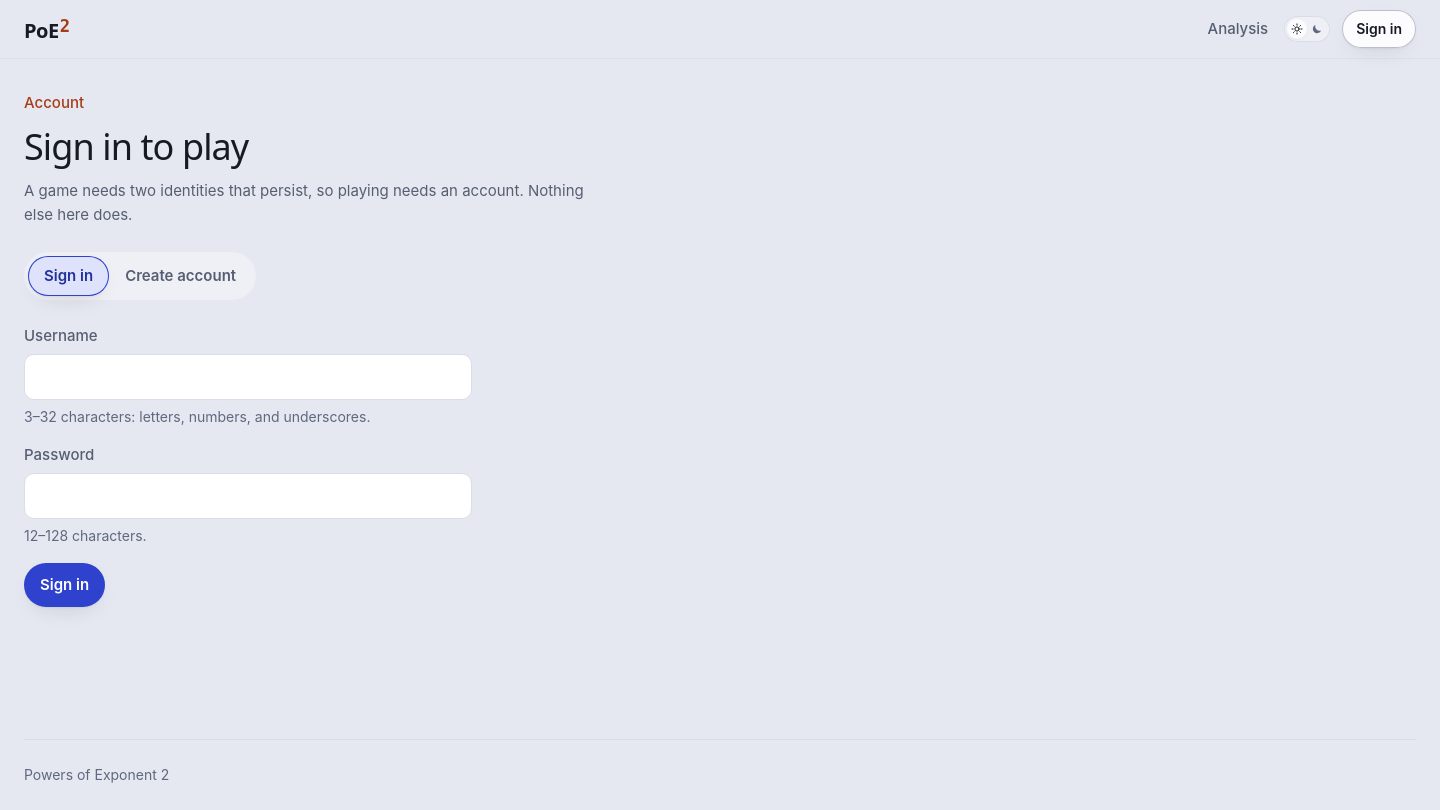
Test: AuthPage › announces a rejected sign-in without leaving the form
The image size is (1440, 810).
Check: the heading "Sign in to play" is shown, box top-left (24, 122), bottom-right (248, 171)
In the field labelled "Username": (248, 377) top-left (24, 354), bottom-right (472, 400), type "Player_One"
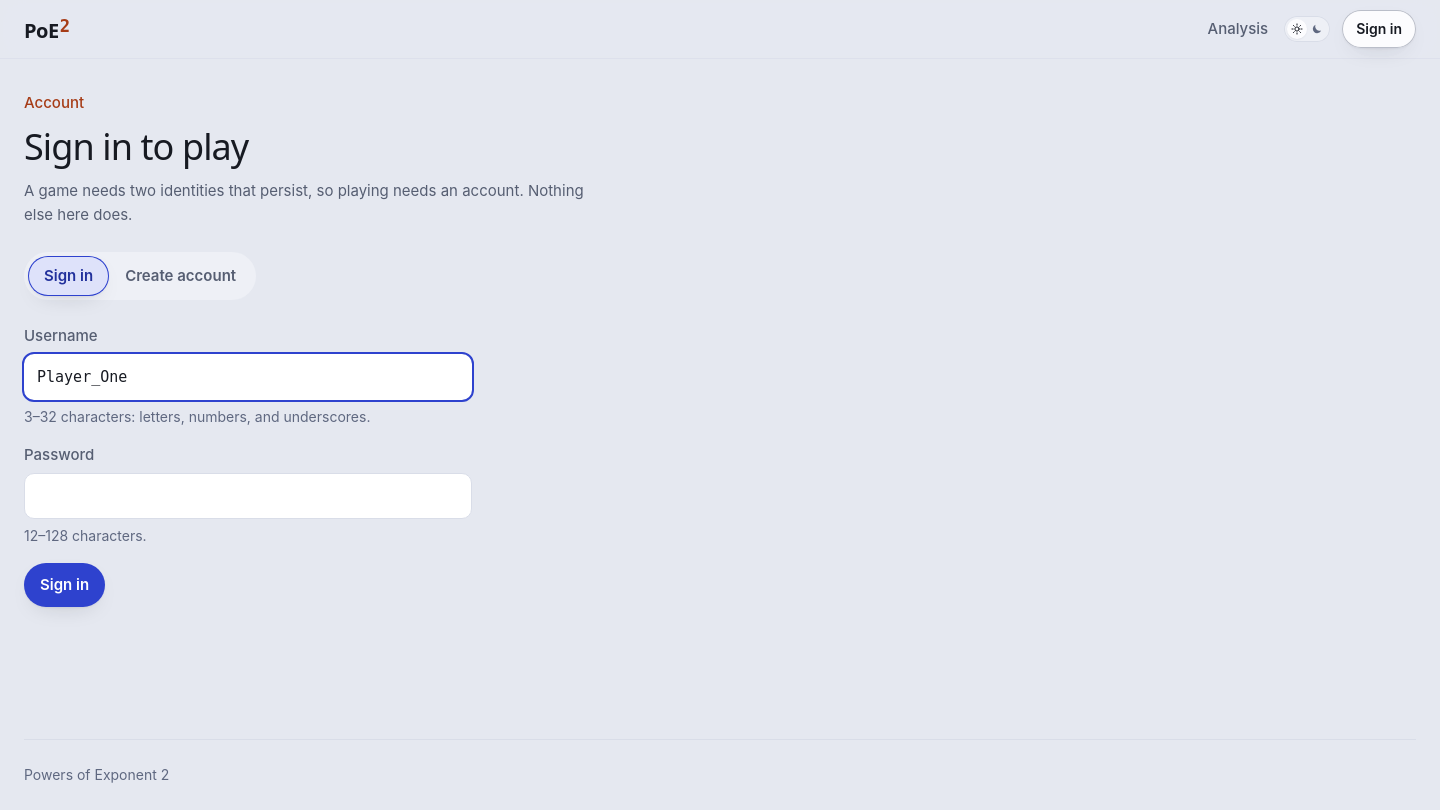
In the password field labelled "Password": (248, 496) top-left (24, 473), bottom-right (472, 519), type "correct horse battery staple"
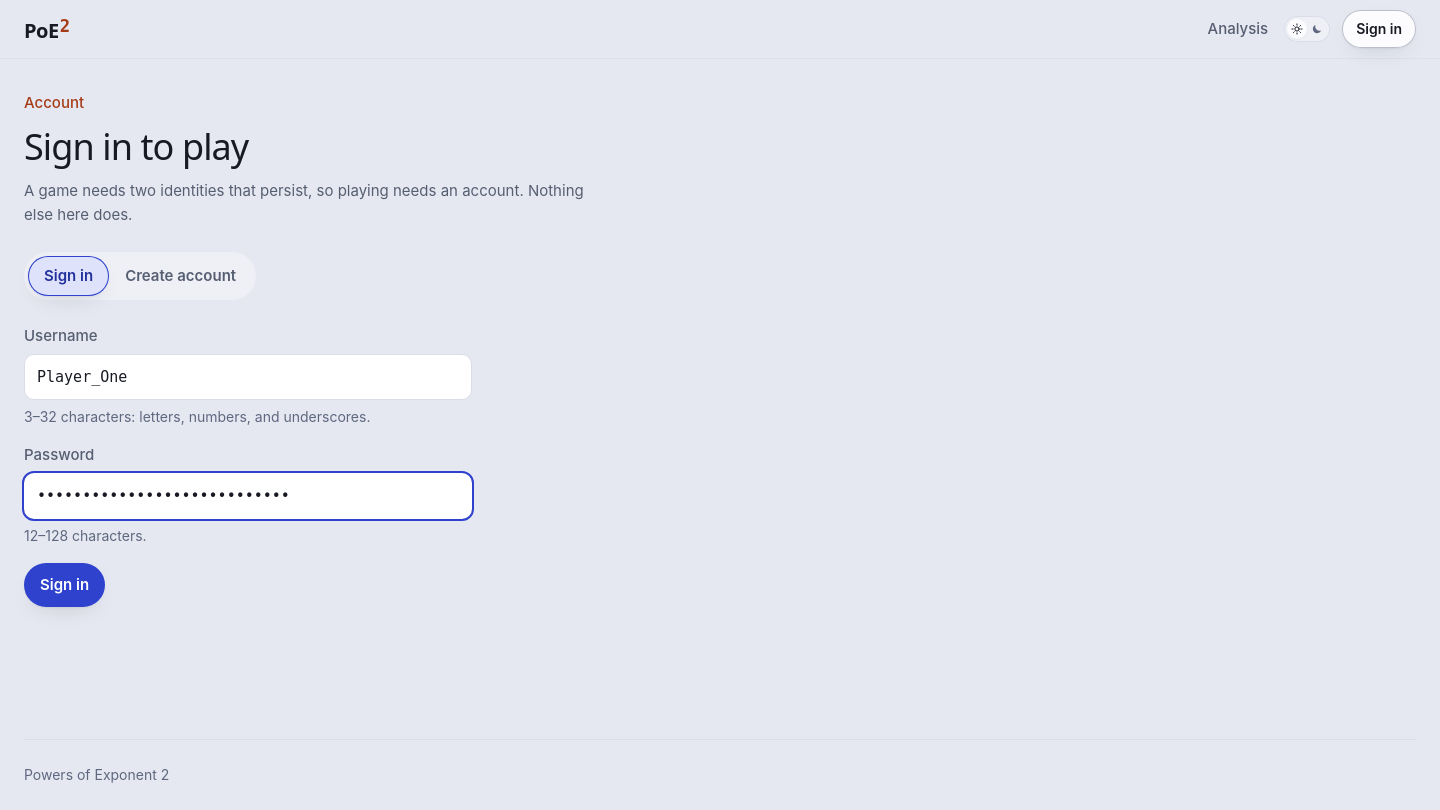
Click the button "Sign in" below "12–128 characters.": (65, 585) top-left (24, 563), bottom-right (105, 607)
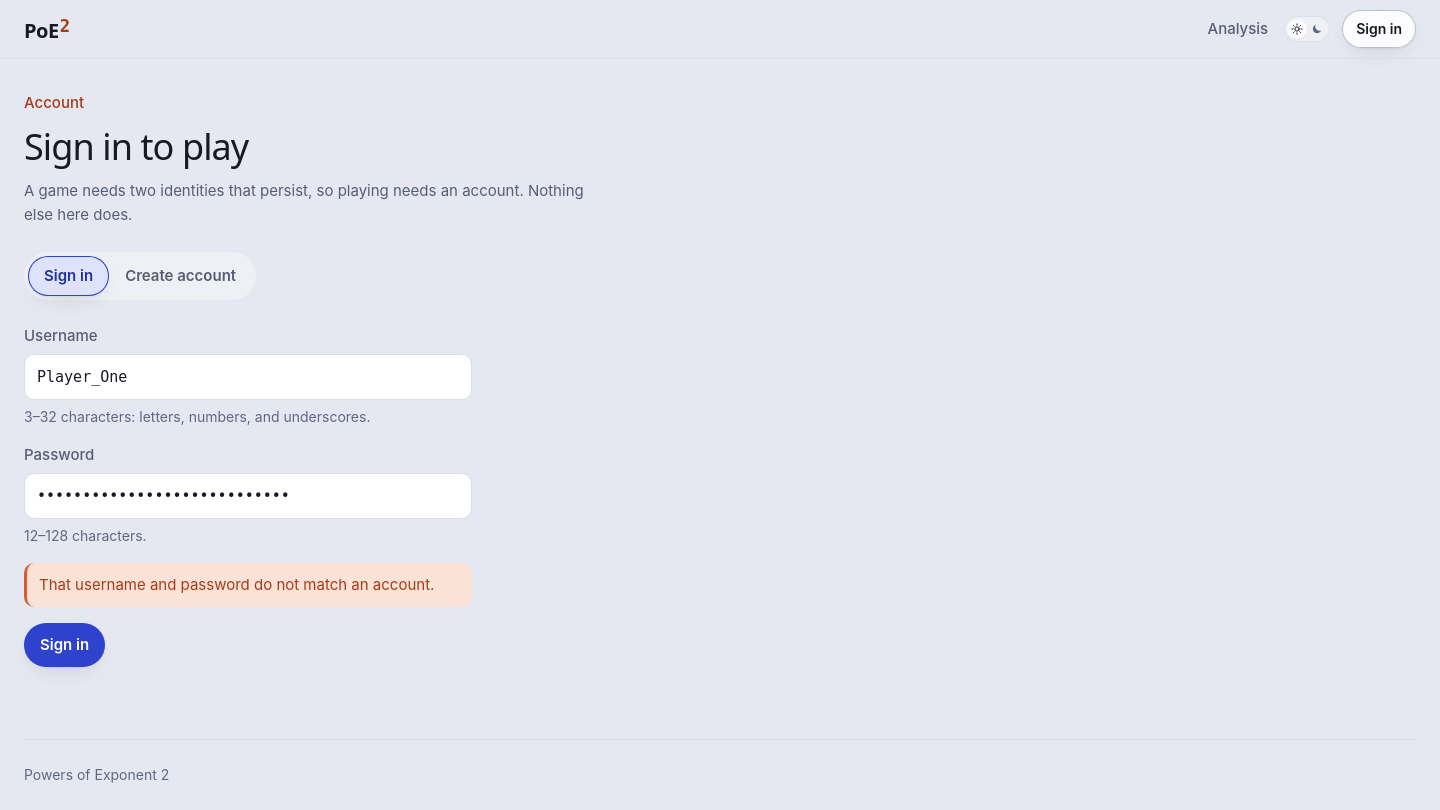
Check: the message reads "That username and password do not match an account.", box top-left (39, 575), bottom-right (434, 594)
